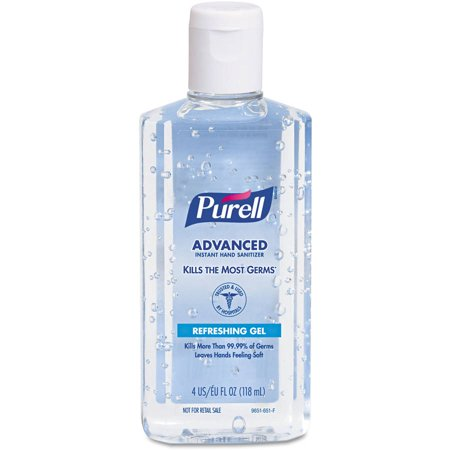Sanitizer: (137, 1, 319, 450)
